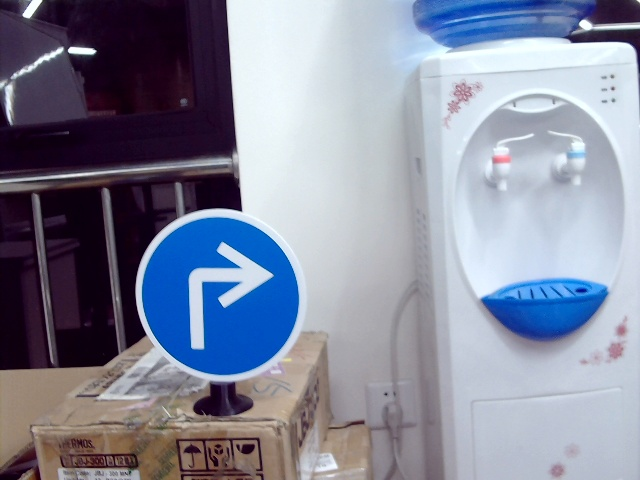turn_right: (173, 234, 273, 354)
